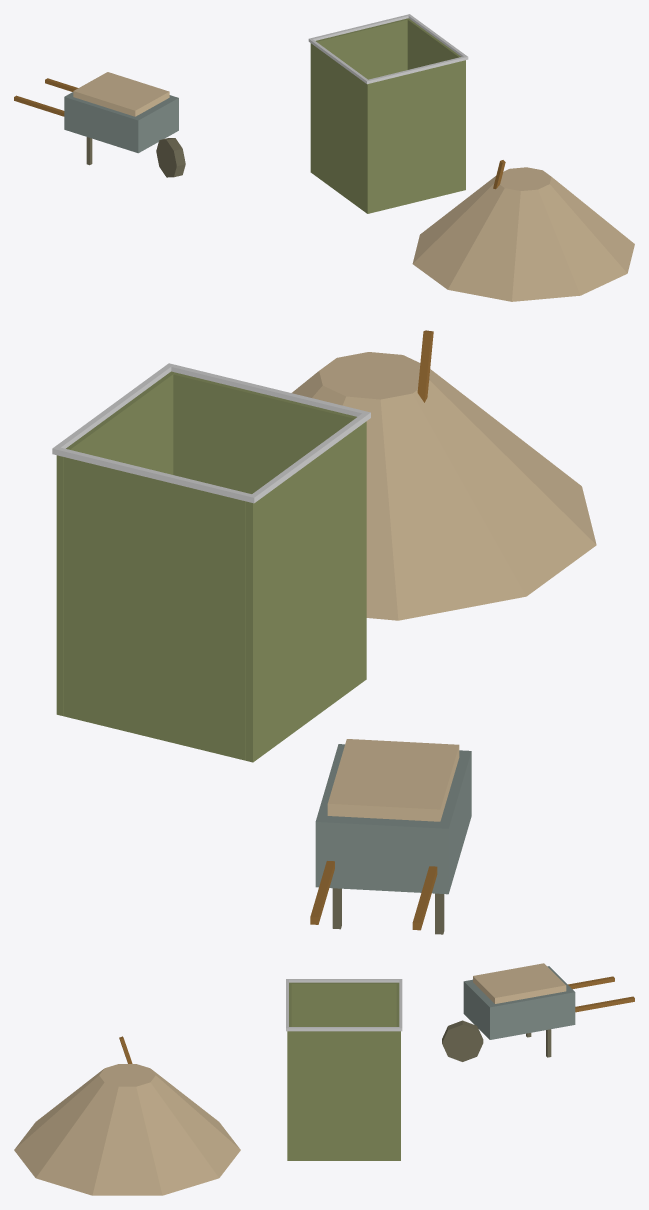
File: SM_ObraHescoAbierto_v1_8m_LOD0.fbx
3 views of the same model, one above another, from view 1: azimuth 30°, elevation 25°; view 2: azimuth 150°, elevation 25°; view 3: azimuth 270°, elevation 25° (orthographic). The views are drawn at different scales.
Visible parts, largest first — view 1: SM_obra_curso_v22_LOD0; view 2: SM_obra_curso_v22_LOD0; view 3: SM_obra_curso_v22_LOD0.
Boxes of the visible parts, x1,y1,x2,y2 form: SM_obra_curso_v22_LOD0: (14, 14, 634, 301); SM_obra_curso_v22_LOD0: (52, 330, 596, 934); SM_obra_curso_v22_LOD0: (14, 963, 634, 1195).
Bounding box in the file's own units: 4.02 × 1.44 × 6.02.
